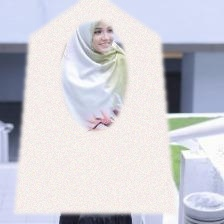Mukena: (14, 0, 175, 214)
